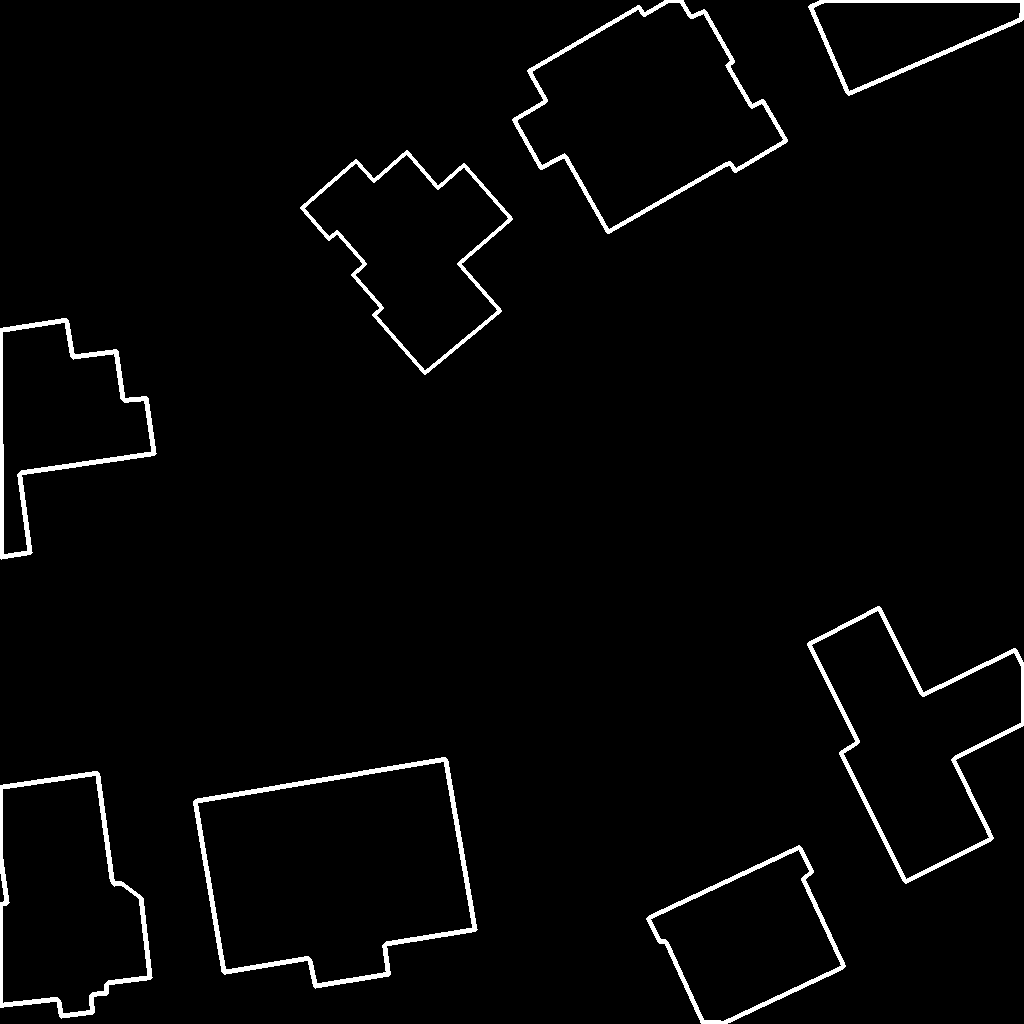building: (195, 759, 476, 987), (514, 0, 787, 233), (809, 608, 1024, 883), (302, 152, 512, 374), (0, 320, 155, 558), (0, 773, 151, 1017), (648, 847, 845, 1024), (810, 0, 1024, 95)
